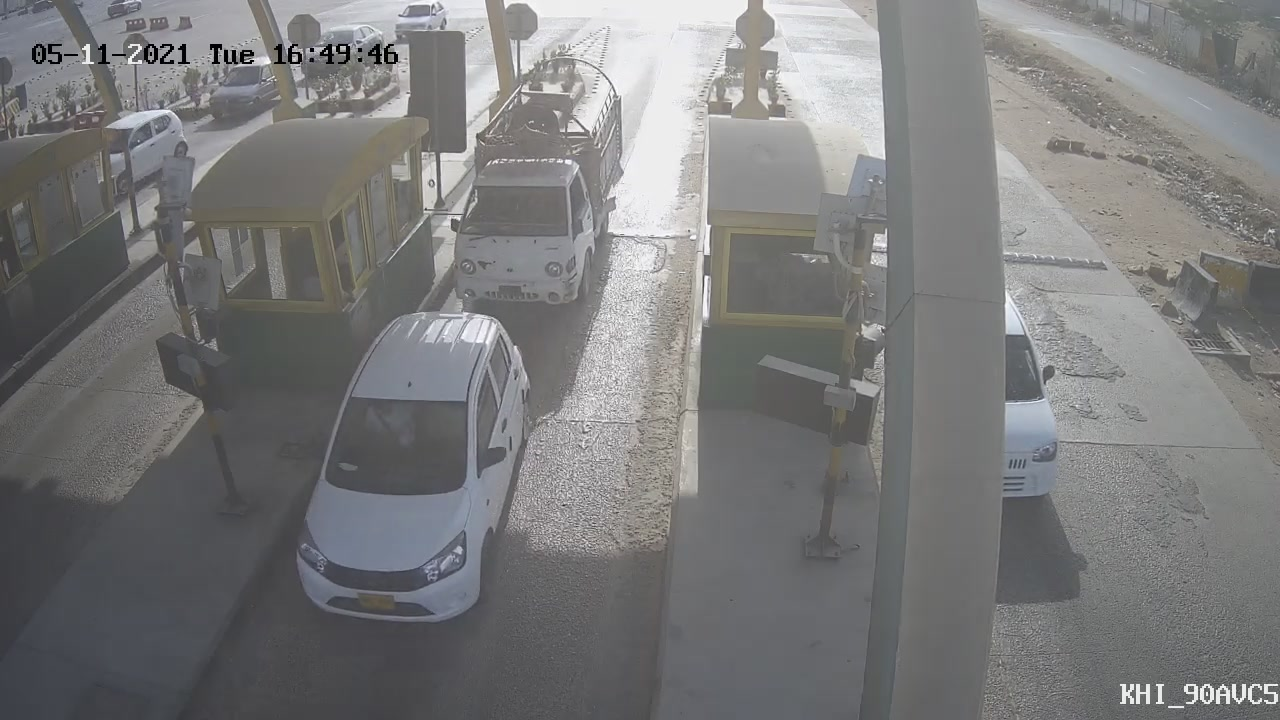F2: (431, 42, 642, 330)
